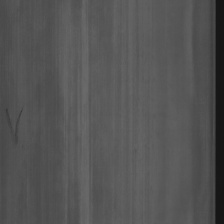water_spot: (5, 100, 25, 151)
